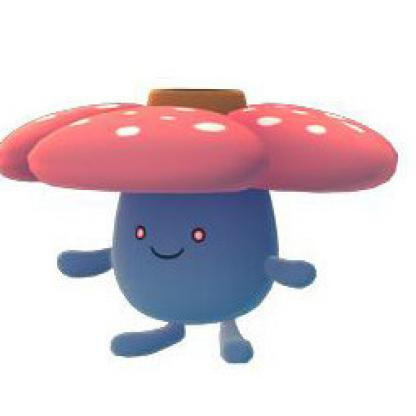Vileplume: (1, 66, 414, 367)
